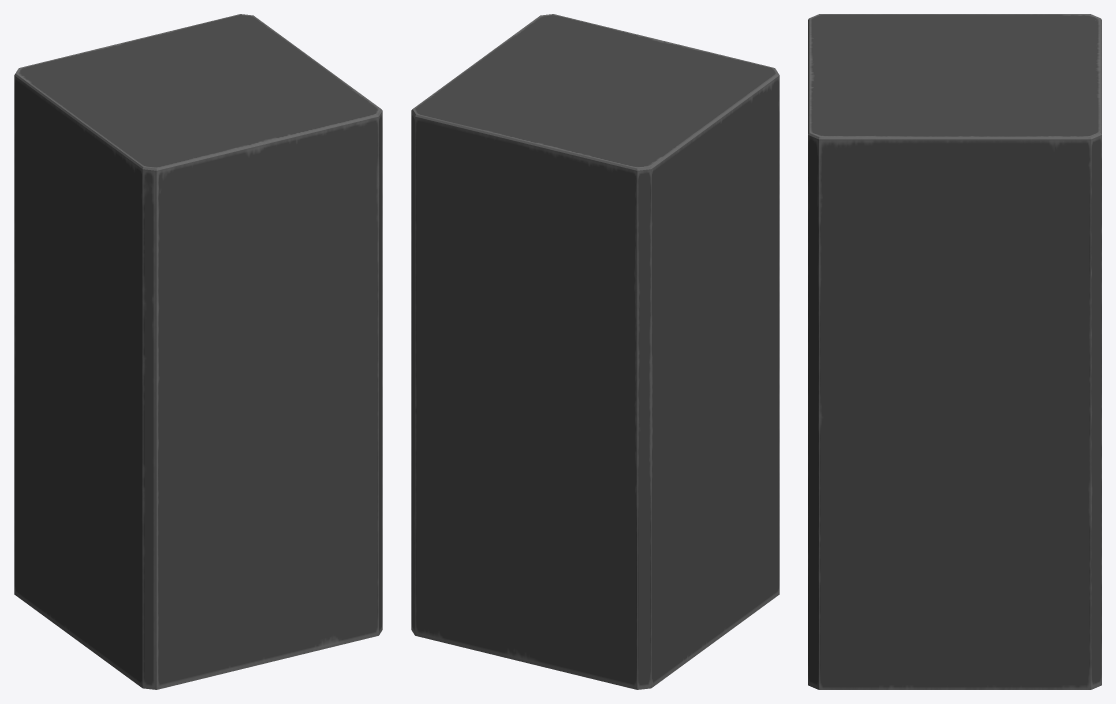
Rendered from tallbuilding.glb.
3 views of the same model, side by side, from view 1: azimuth 30°, elevation 25°; view 2: azimuth 150°, elevation 25°; view 3: azimuth 270°, elevation 25° (orthographic). The views are drawn at different scales.
Parts seen in each view (by area): view 1: Cube.012; view 2: Cube.012; view 3: Cube.012.
Boxes of the visible parts, x1,y1,x2,y2 form: Cube.012: (14, 14, 382, 689); Cube.012: (411, 14, 779, 689); Cube.012: (808, 14, 1101, 689).
Size of the model in its own units: 13.28 by 27.53 by 13.28.
Materials: 1 (1 with a texture image).
